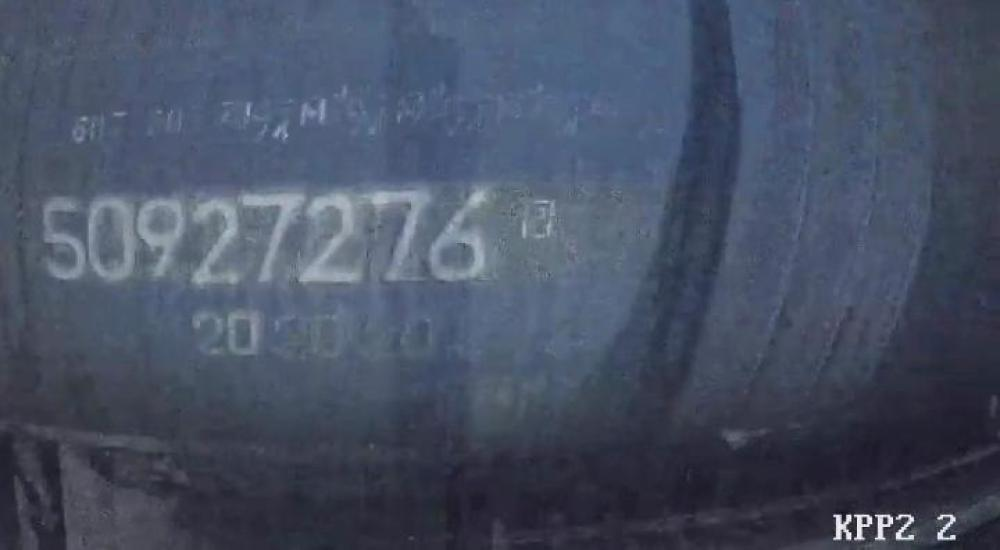Wagon-number: (34, 178, 497, 289)
